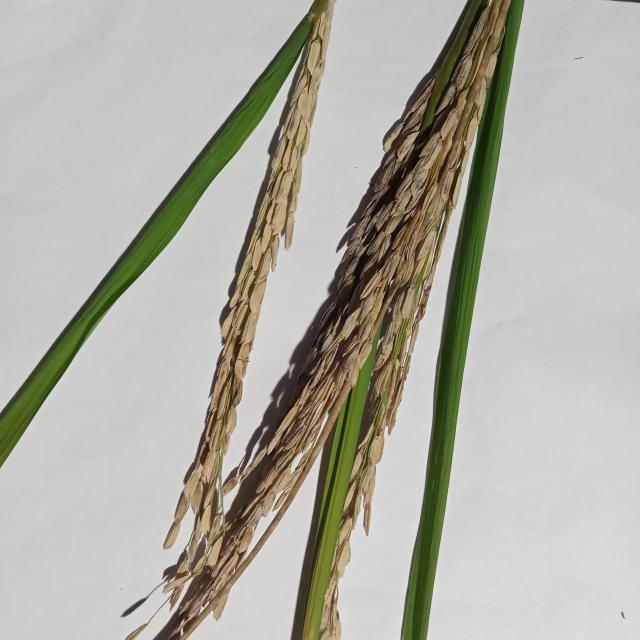Neck_Blast: (157, 0, 509, 640), (161, 0, 330, 578)
